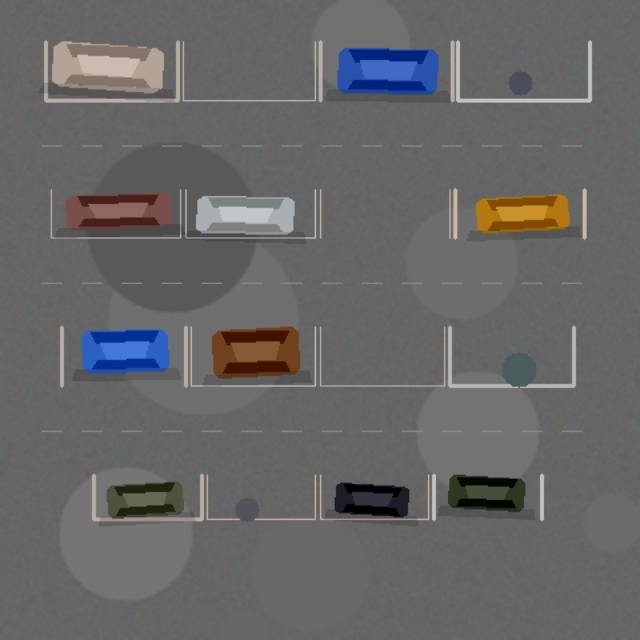space-empty: (183, 41, 315, 100), (457, 41, 589, 100), (320, 327, 444, 385), (449, 327, 573, 385), (320, 189, 449, 237), (207, 475, 315, 519)
space-occupied: (45, 41, 177, 100), (320, 41, 452, 100), (61, 327, 185, 385), (191, 327, 315, 385), (185, 189, 315, 237), (51, 189, 180, 237), (455, 189, 584, 237), (93, 475, 201, 519), (320, 475, 428, 519), (433, 475, 541, 519)
